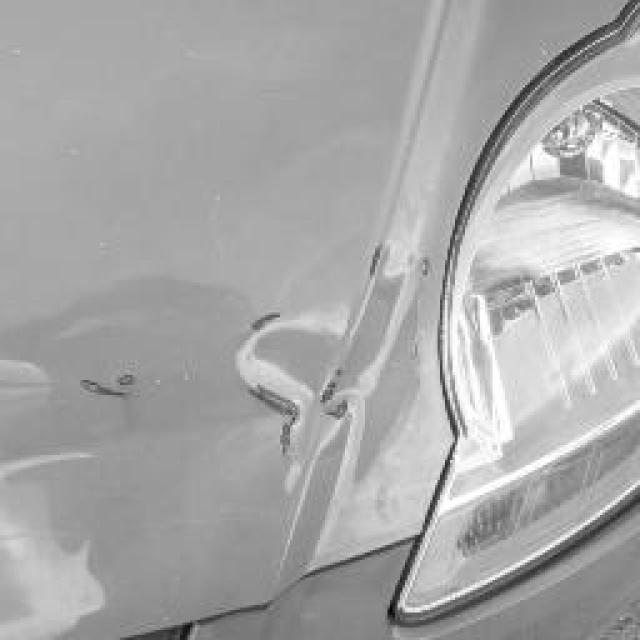Bonnet: (142, 145, 442, 535)
